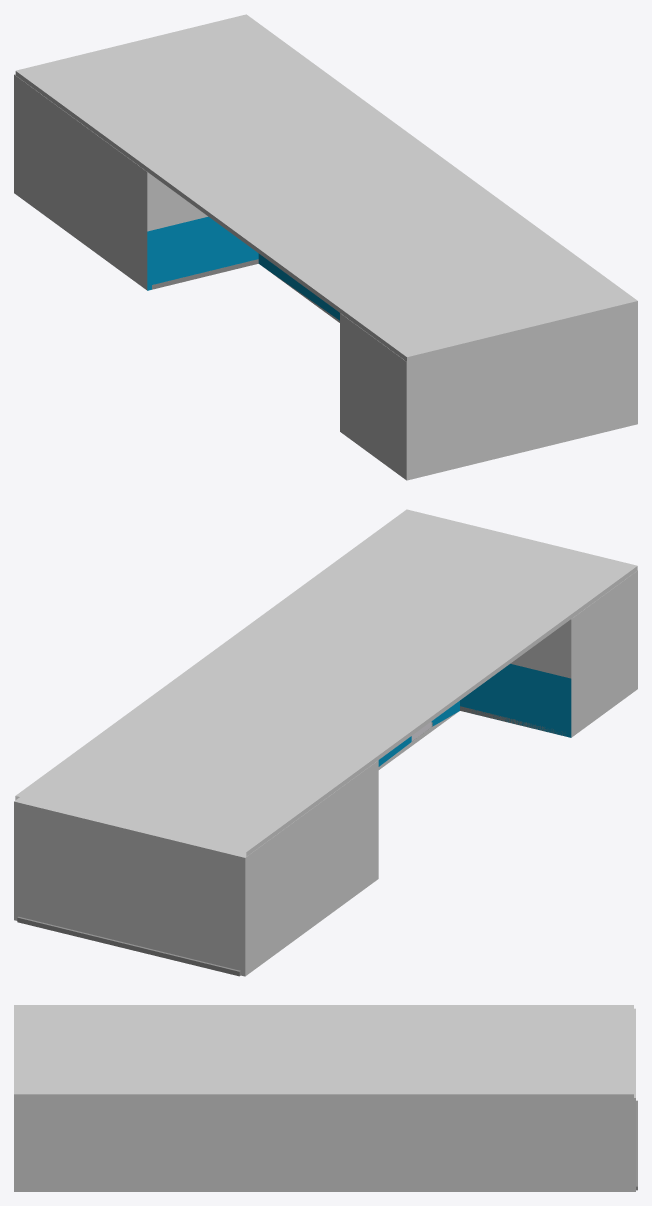
File: ruang_periksa.glb
The picture shows the model from 3 angles, top to bottom: view 1: azimuth 30°, elevation 25°; view 2: azimuth 150°, elevation 25°; view 3: azimuth 270°, elevation 25°; orthographic projection. The views are drawn at different scales.
Parts seen in each view (by area): view 1: Cube; view 2: Cube; view 3: Cube.
Part boxes in pixels (x1,y1,x2,y2): Cube: [14, 14, 637, 480]; Cube: [14, 509, 637, 976]; Cube: [14, 1005, 637, 1191].
Size of the model in its own units: 20.8 by 10.6 by 61.4.
